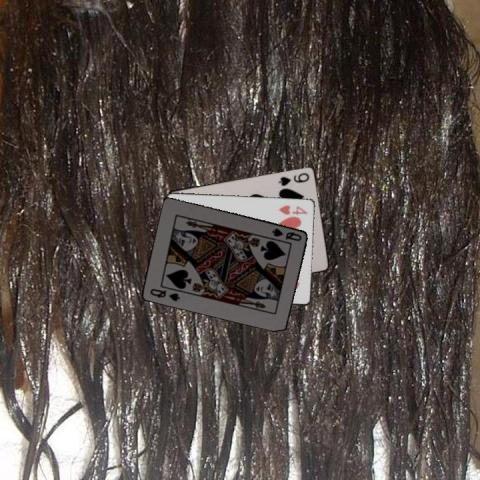4h: (276, 202, 309, 215)
9s: (275, 170, 311, 188)
Qs: (270, 224, 304, 243), (147, 285, 181, 303)
